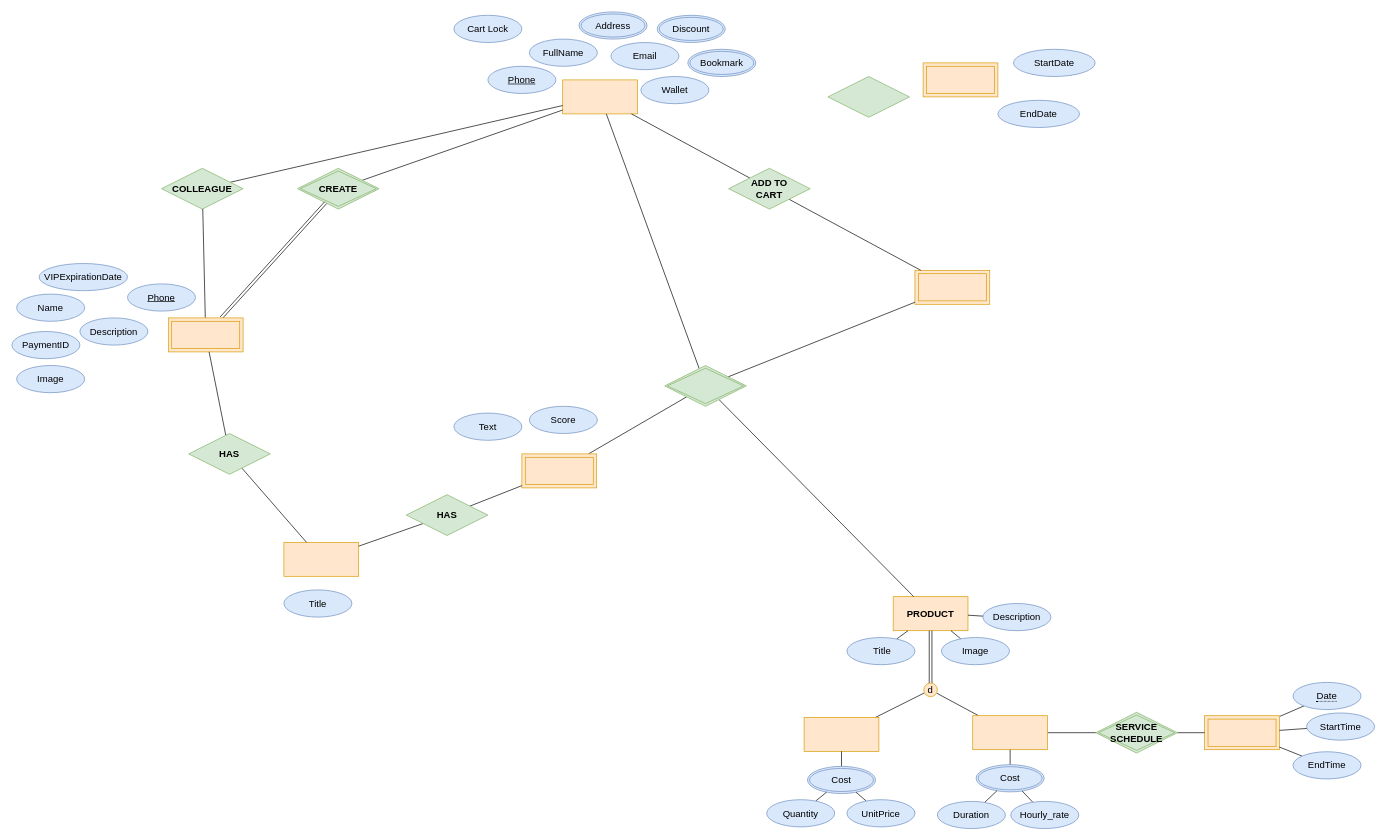
Some shapes in this 1387 by 840 pixel diagram are drawn without their labels. Here are the shapes that lost their labels. From the top down, the centre of each, then its label:
At pixel 600 96: "USER".
At pixel 868 96: "BUY SUBSCRIPTION".
At pixel 960 79: "VIP".
At pixel 952 287: "CART".
At pixel 205 334: "BOOTH".
At pixel 705 385: "ORDER".
At pixel 559 470: "REVIEW".
At pixel 321 559: "BADGE".
At pixel 841 734: "GOOD".
At pixel 1010 732: "SERVICE".
At pixel 1241 732: "SCHEDULE".
